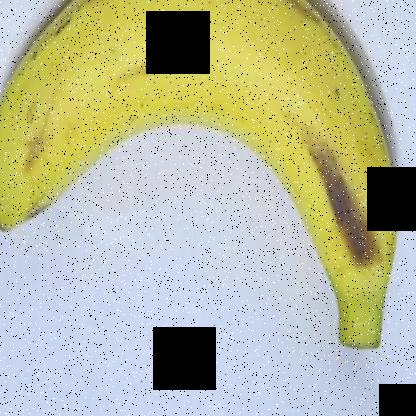freshripe: (0, 1, 408, 366)
